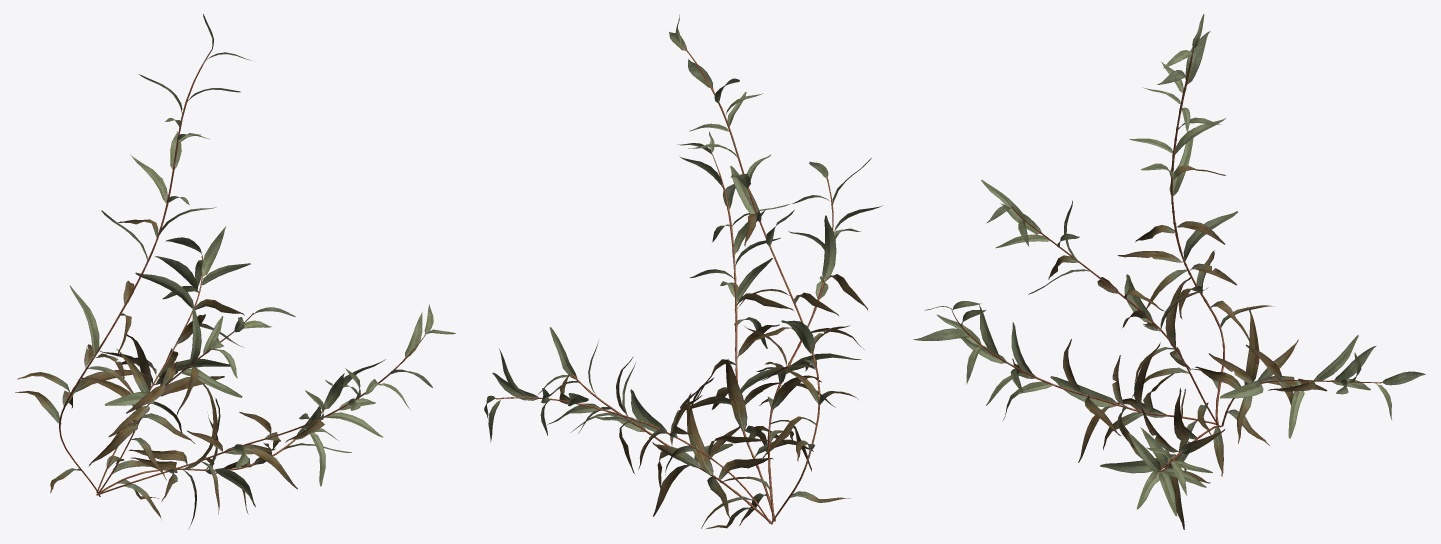
Rendered from shrub_02_c.glb.
3 views of the same model, side by side, from view 1: azimuth 30°, elevation 25°; view 2: azimuth 150°, elevation 25°; view 3: azimuth 270°, elevation 25° (orthographic). The views are drawn at different scales.
Parts seen in each view (by area): view 1: shrub_02_c; view 2: shrub_02_c; view 3: shrub_02_c.
Part boxes in pixels (bbox=[...]): shrub_02_c: bbox=[15, 14, 455, 529]; shrub_02_c: bbox=[484, 15, 882, 529]; shrub_02_c: bbox=[913, 14, 1425, 529].
Bounding box in the file's own units: 0.8223 × 1.18 × 1.1.
Materials: 1 (1 with a texture image).
